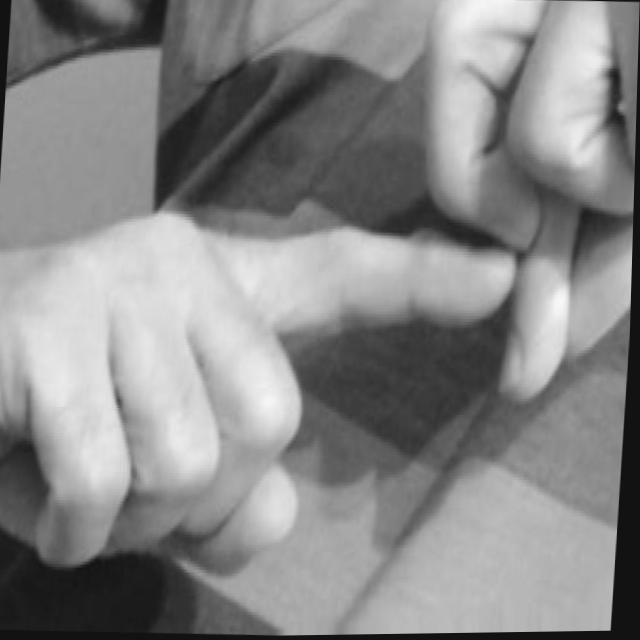R: (0, 0, 640, 601)
